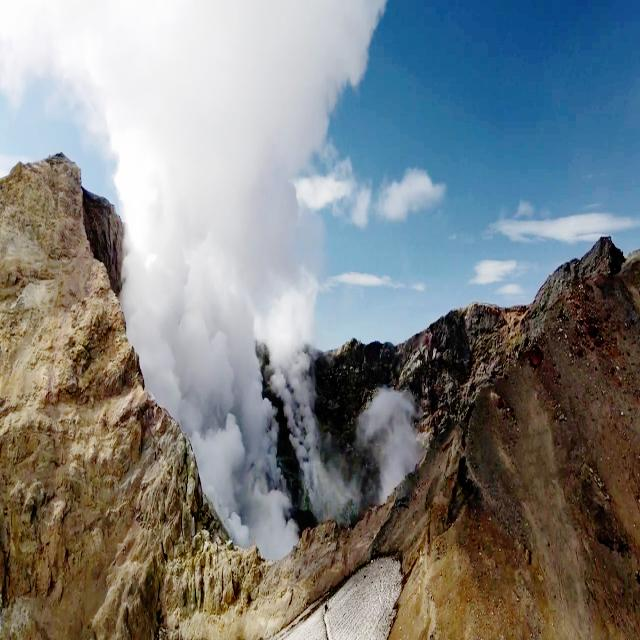asap: (5, 1, 387, 573), (160, 1, 307, 564), (73, 7, 223, 448), (232, 1, 383, 389), (350, 368, 447, 514)
